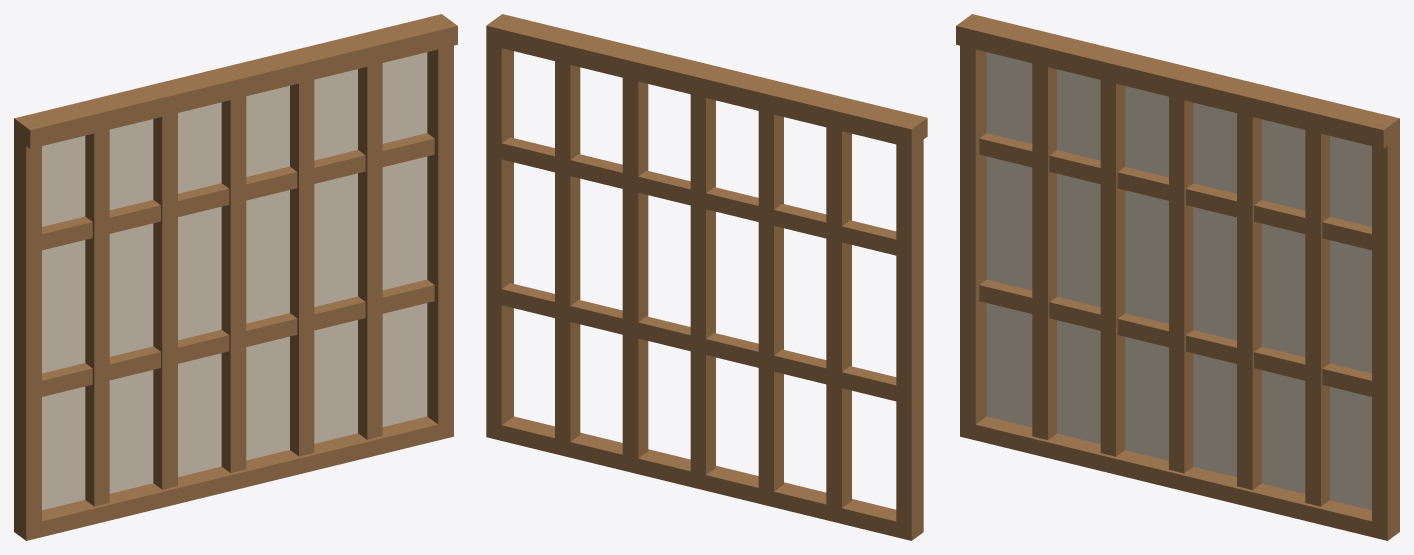
Rendered from Japanese Door.glb.
3 renders of one model, left to right at view 1: azimuth 30°, elevation 25°; view 2: azimuth 150°, elevation 25°; view 3: azimuth 330°, elevation 25°, orthographic.
Parts seen in each view (by area): view 1: Door; view 2: Door; view 3: Door.
Part boxes in pixels (x1,y1,x2,y2): Door: (14, 14, 457, 540); Door: (486, 14, 927, 540); Door: (956, 14, 1399, 540).
Bounding box in the file's own units: 4 × 3.7 × 0.2618.
Materials: 2 (1 with a texture image).
